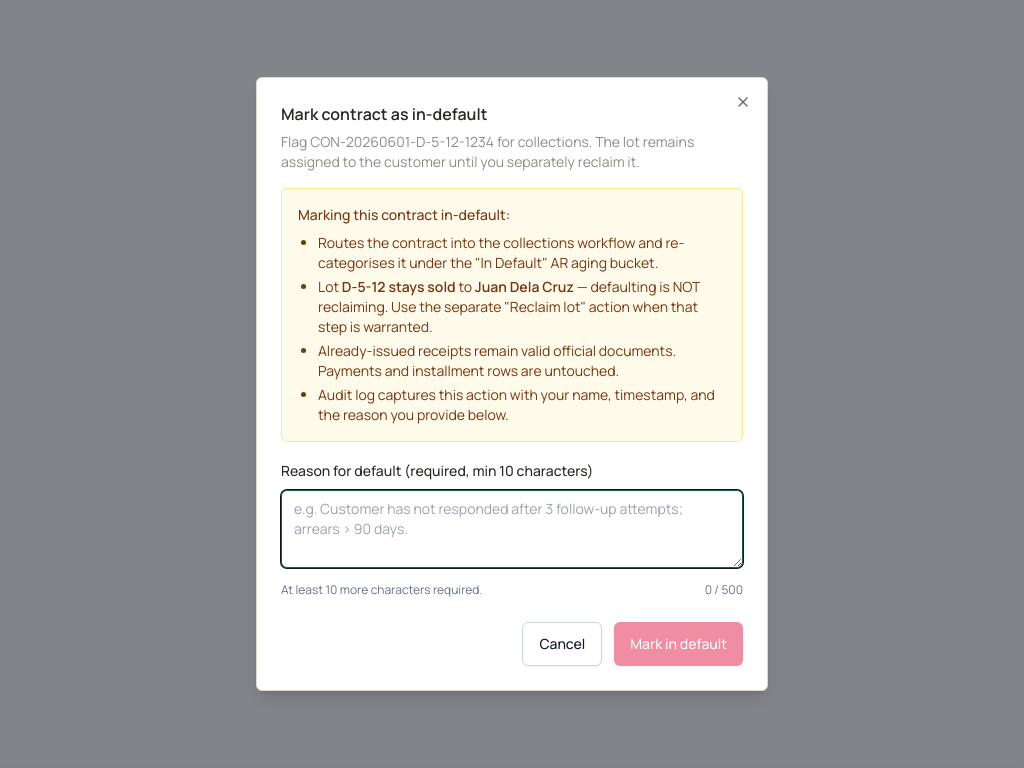
Test: MarkInDefaultDialog › updates the character counter as the user types
Type "Hello world" into the text box with test id "mark-in-default-reason" at (512, 529), box [281,490,743,568]
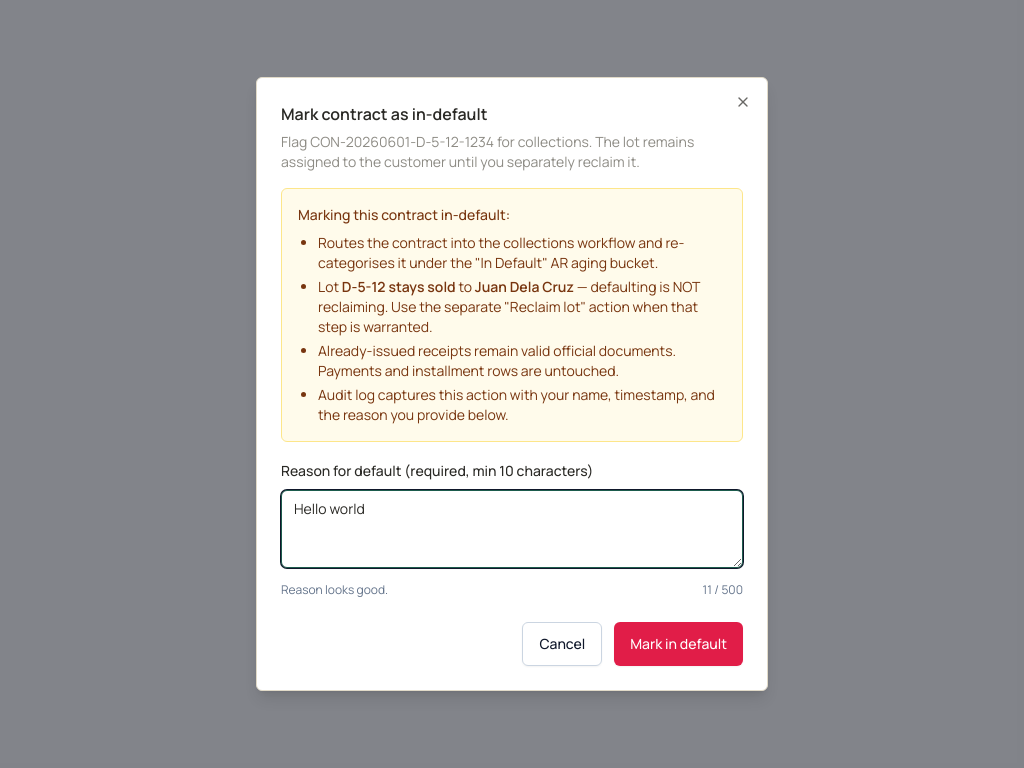
Expected: the element with test id "mark-in-default-reason-counter" shows "11 / 500", [281,582,743,598]
